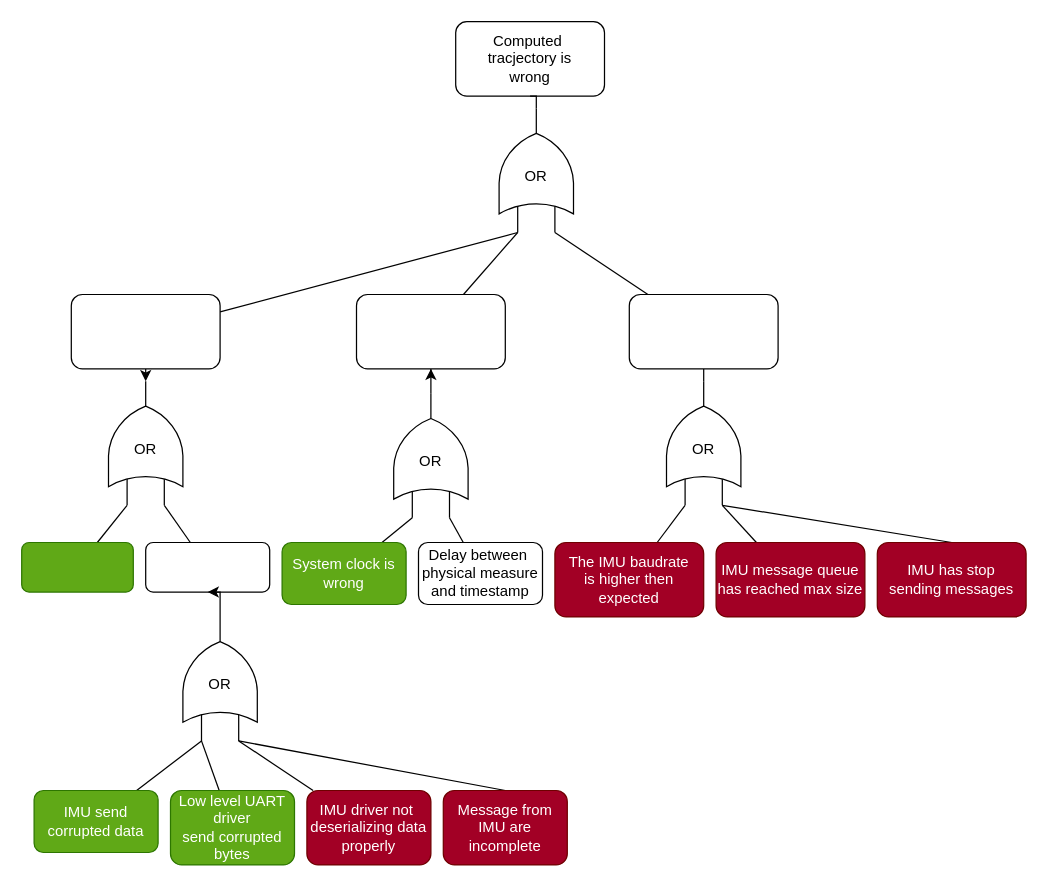
Image size: 1048x887. Some labels were removed from this diagram. The shapes that lost their labels are listed below. From the top down, each one's centre as x and y in pixels, then its label:
At point 145,331: "Acceleration or angular rates are wrong".
At point 430,331: "Timestamp are wrong".
At point 703,331: "Some messages are missing".
At point 76,566: "Measrurements are wrong in the IMU".
At point 207,566: "Message queue memory corrupted".
